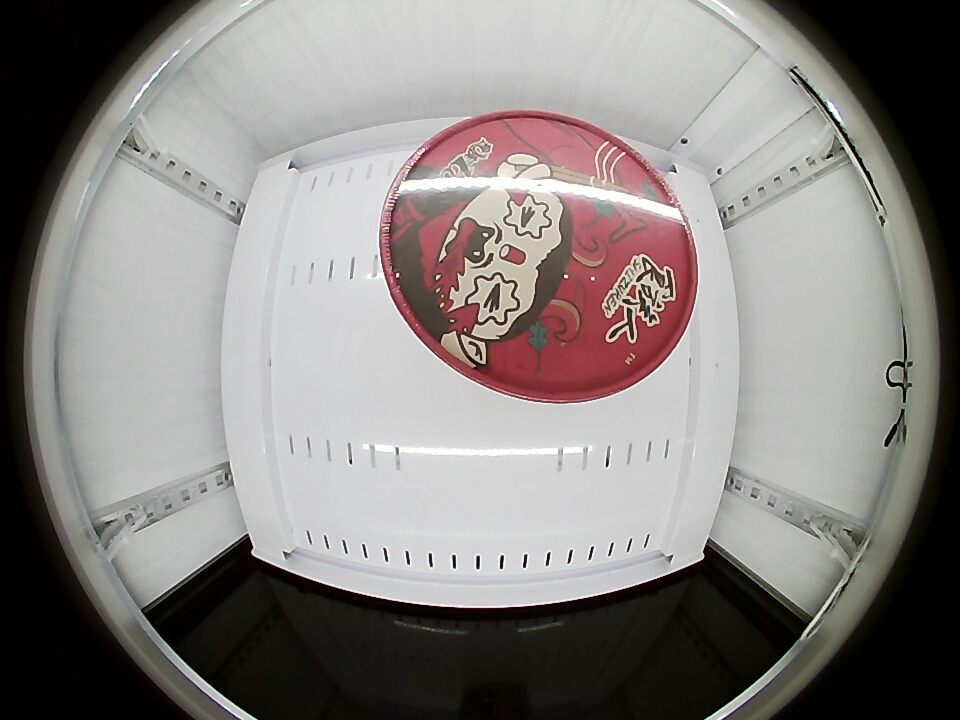suanlafen: (377, 114, 698, 402)
